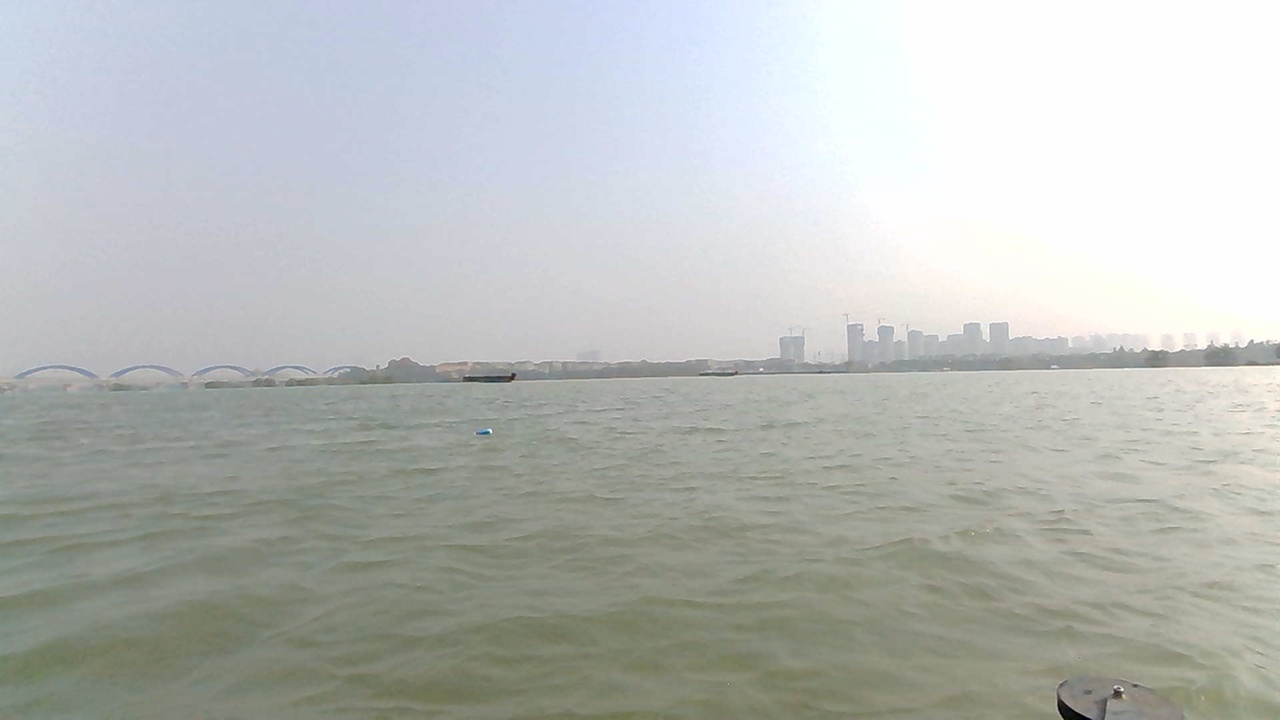bottle: (467, 425, 497, 440)
